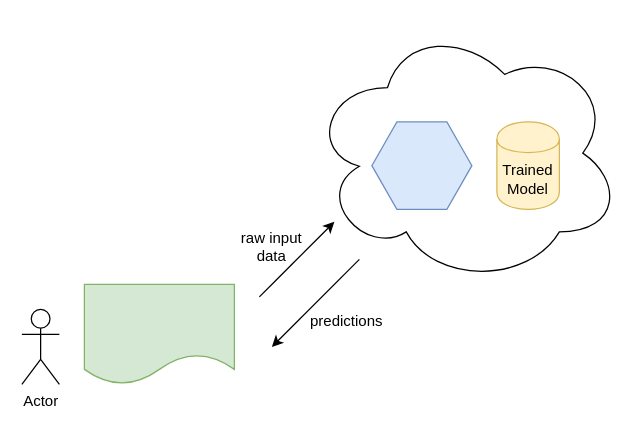
This 644x433 diagram has some shape labels left out. Each missing label, with the box of its shape:
Browser or Mobile App: (83, 283, 234, 384)
Flask Server: (371, 121, 472, 209)
